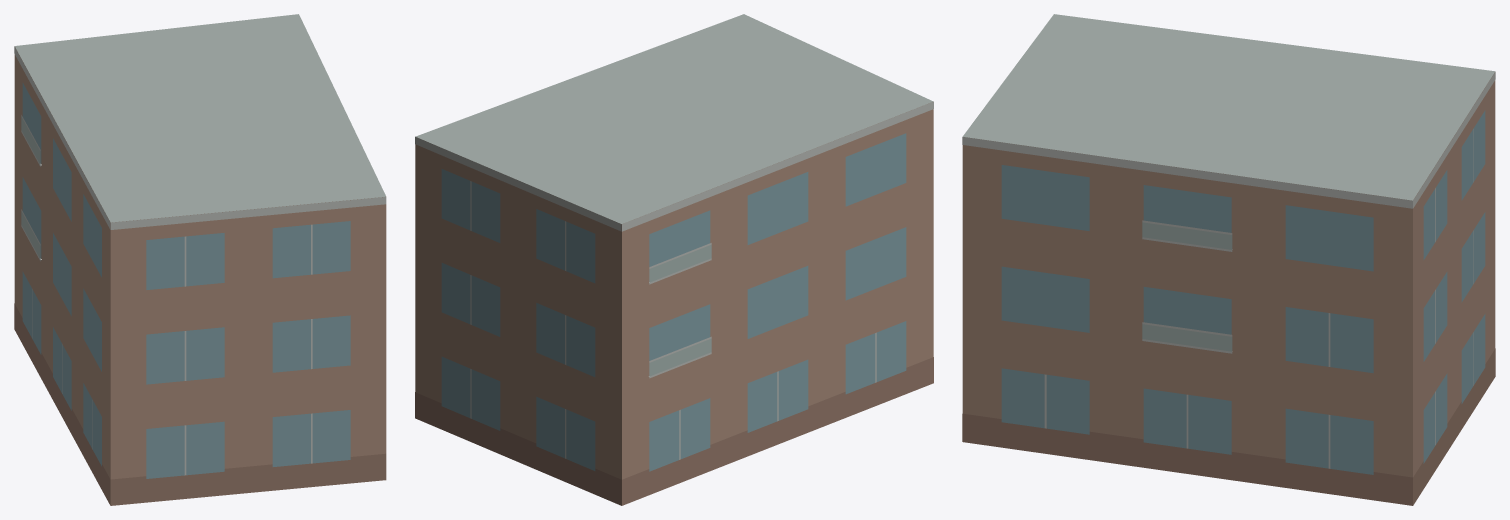
Rendered from survey-upis-32657845.glb.
The picture shows the model from 3 angles, left to right: view 1: azimuth 30°, elevation 25°; view 2: azimuth 150°, elevation 25°; view 3: azimuth 270°, elevation 25°; orthographic projection. The views are drawn at different scales.
Parts seen in each view (by area): view 1: survey-upis-32657845.tmp; view 2: survey-upis-32657845.tmp; view 3: survey-upis-32657845.tmp.
Boxes of the visible parts, bbox=[...] form: survey-upis-32657845.tmp: bbox=[14, 14, 386, 505]; survey-upis-32657845.tmp: bbox=[415, 14, 933, 505]; survey-upis-32657845.tmp: bbox=[962, 14, 1495, 505].
Size of the model in its own units: 11.94 by 9.1 by 14.41.
